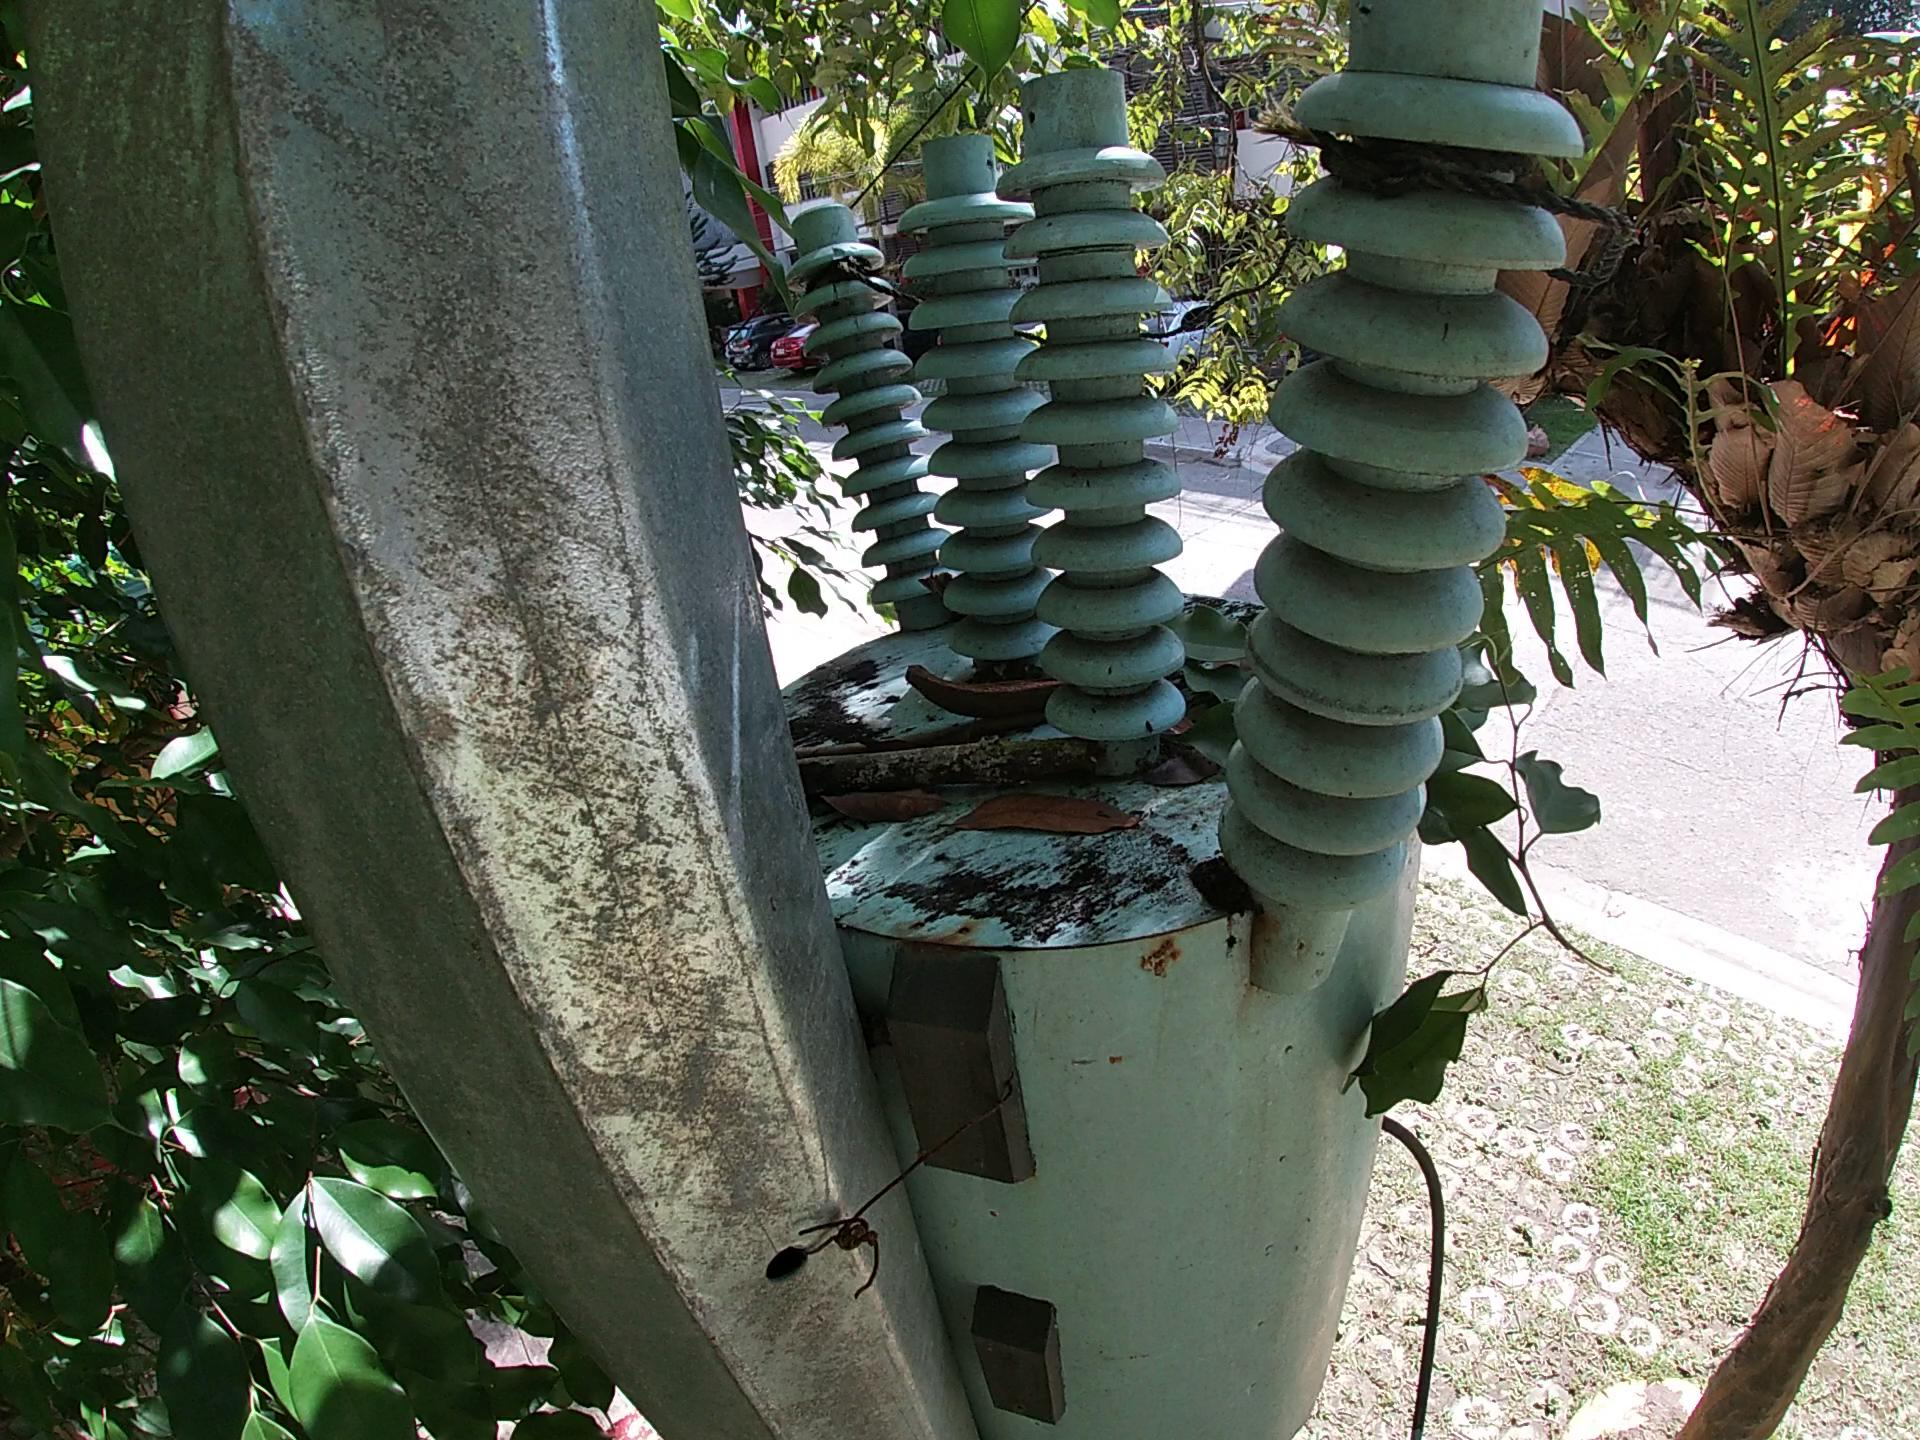branch with leaves: (1342, 584, 1618, 1148)
leaf: (1167, 591, 1259, 750), (963, 803, 1132, 843), (813, 785, 937, 827)
mahogany fruit: (901, 656, 1076, 722)
tree branch: (788, 746, 1085, 777)
